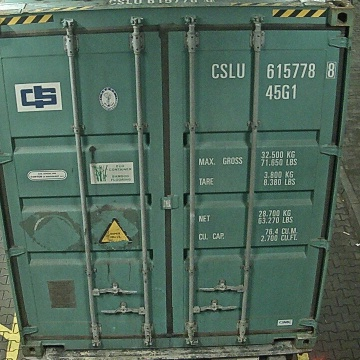serial_id: (211, 62, 335, 78)
